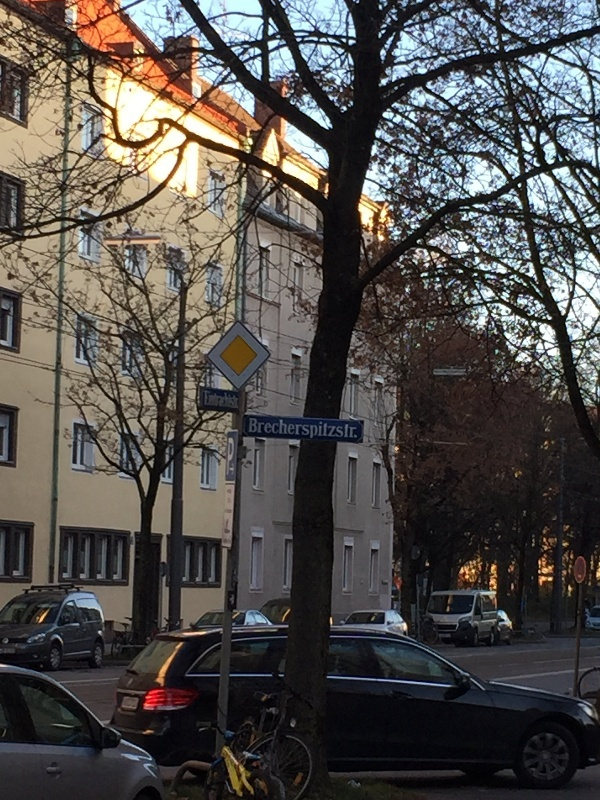text: (227, 437, 240, 476), (257, 417, 272, 444), (273, 417, 288, 444), (289, 417, 304, 444), (305, 417, 320, 444), (321, 417, 336, 444), (337, 417, 352, 444), (209, 390, 224, 409), (225, 390, 239, 409), (249, 417, 256, 444), (353, 417, 358, 444), (205, 390, 208, 409)
